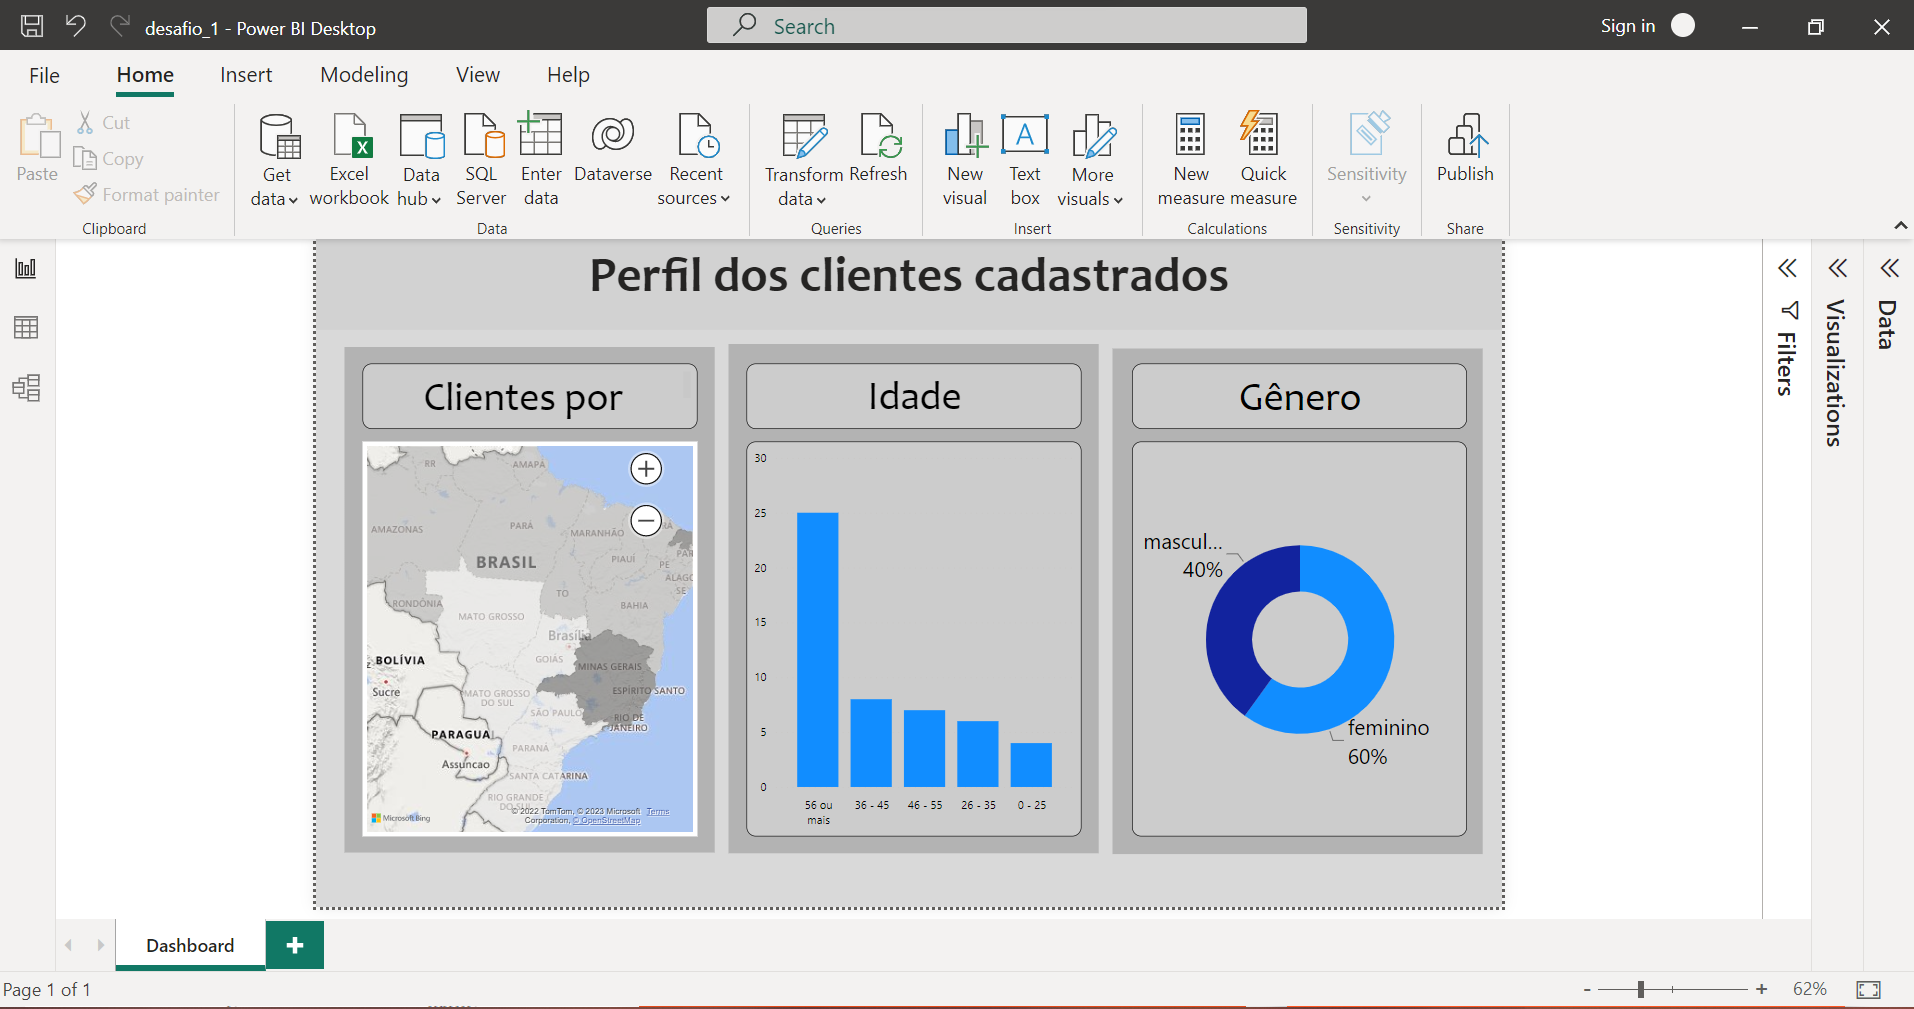

This screenshot's page, from the dashboard's own definition file:
{"tool":"powerbi","page":{"name":"Dashboard","canvas":[1280,720],"ordinal":0},"visuals":[{"type":"textbox","box":[0,0,1279.4,98.3],"z":0},{"type":"filledMap","fields":{"Category":["df.estado"]},"box":[30.4,135,399.2,526.6],"z":1000},{"type":"textbox","box":[859.3,117.9,399.2,545.6],"z":2000},{"type":"donutChart","title":"Gênero","fields":{"Category":["df.sexo"],"Y":["CountNonNull(df.sexo)"]},"box":[880.2,218.6,361.2,425.8],"z":3000},{"type":"textbox","box":[444.8,114.1,399.2,549.4],"z":4000},{"type":"textbox","box":[30.4,116,399.2,545.6],"z":5000},{"type":"textbox","box":[880.2,135,361.2,70.3],"z":6000},{"type":"textbox","box":[49.4,135,361.2,70.3],"z":7000},{"type":"textbox","box":[463.8,135,361.2,70.3],"z":8000},{"type":"filledMap","fields":{"Category":["df.estado"]},"box":[49.4,218.6,361.2,425.8],"z":9000},{"type":"clusteredColumnChart","fields":{"Y":["CountNonNull(df.nome)"],"Category":["df.faixa etaria"]},"box":[463.8,218.6,361.2,425.8],"z":10000}]}

Visuals, with their boxes on the page's 1280x720 design canvas (x1, y1, x2, y2). These are canvas units, not pixel positions in the 1914x1009 screenshot, which may show the page scaled, cropped or inside an application window:
textbox: Rect(0, 0, 1279, 98)
filledMap - df.estado: Rect(30, 135, 430, 662)
textbox: Rect(859, 118, 1258, 664)
"Gênero" donutChart: Rect(880, 219, 1241, 644)
textbox: Rect(445, 114, 844, 664)
textbox: Rect(30, 116, 430, 662)
textbox: Rect(880, 135, 1241, 205)
textbox: Rect(49, 135, 411, 205)
textbox: Rect(464, 135, 825, 205)
filledMap - df.estado: Rect(49, 219, 411, 644)
clusteredColumnChart - CountNonNull(df.nome) x df.faixa etaria: Rect(464, 219, 825, 644)
